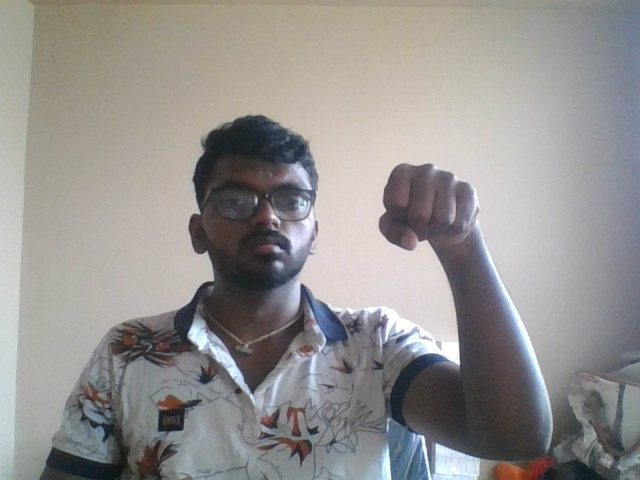Yes: (362, 151, 515, 319)
